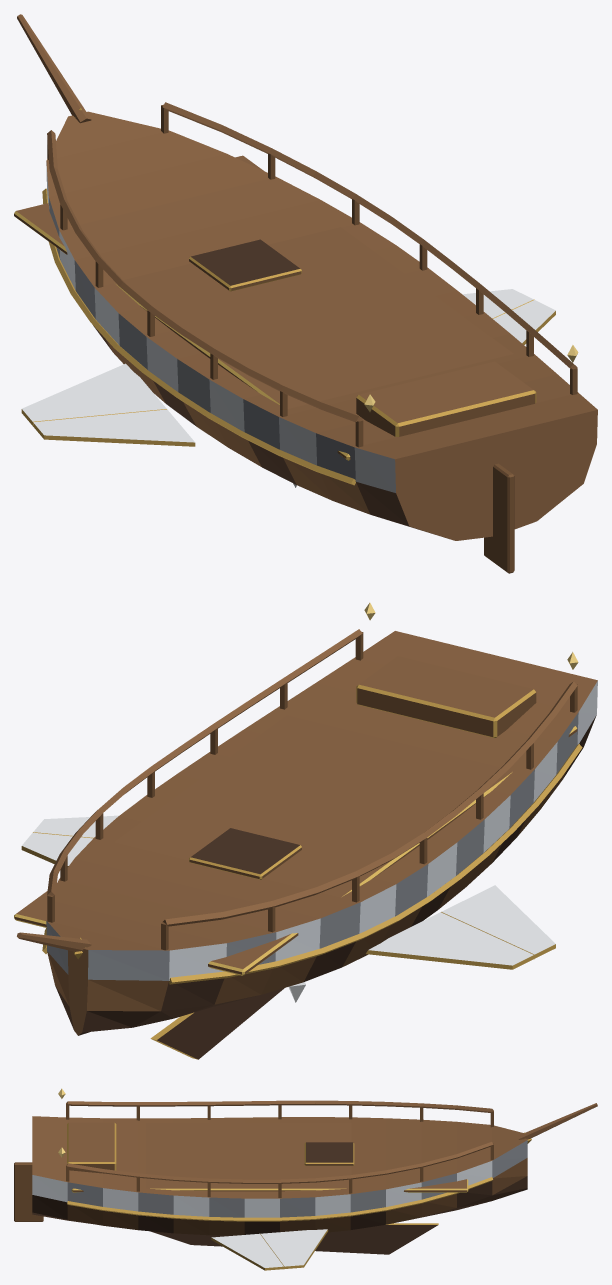
File: SkiffHull.obj
The picture shows the model from 3 angles, top to bottom: view 1: azimuth 30°, elevation 25°; view 2: azimuth 150°, elevation 25°; view 3: azimuth 270°, elevation 25°; orthographic projection. The views are drawn at different scales.
Size of the model in its own units: 12.71 by 6.47 by 21.21.
